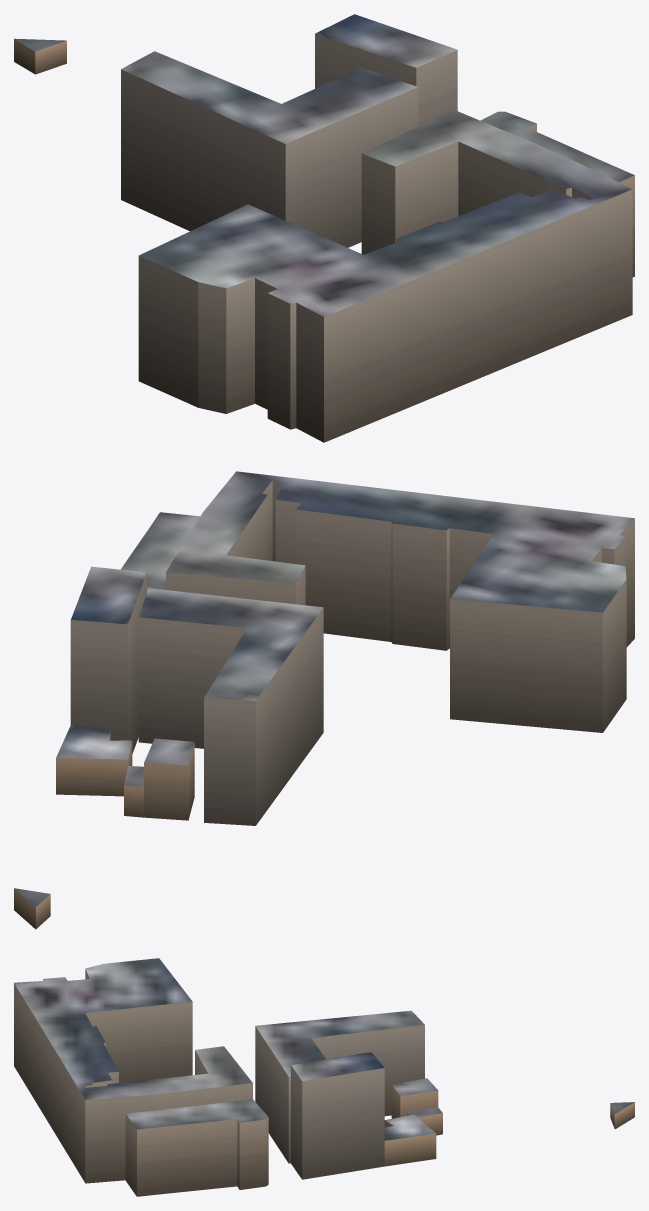
3 views of the same model, one above another, from view 1: azimuth 30°, elevation 25°; view 2: azimuth 150°, elevation 25°; view 3: azimuth 270°, elevation 25° (orthographic). The views are drawn at different scales.
Bounding box in the file's own units: 65.51 × 19.39 × 111.
Materials: 2 (2 with a texture image).
